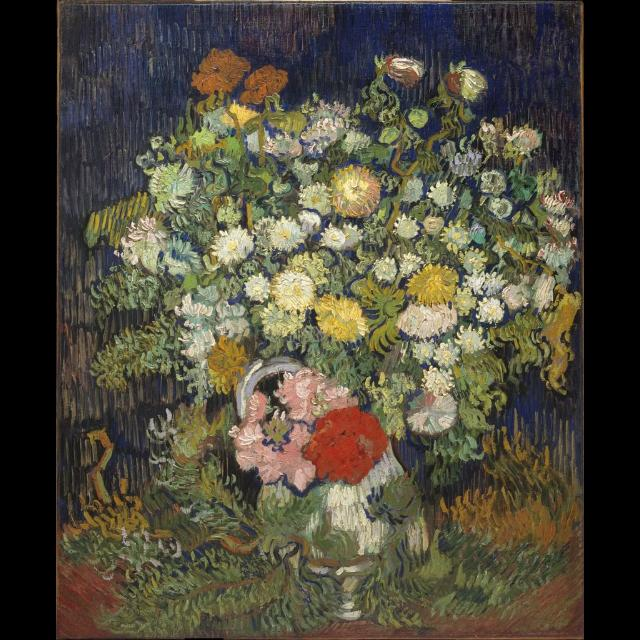Flower: (114, 48, 582, 550), (307, 402, 401, 496)
